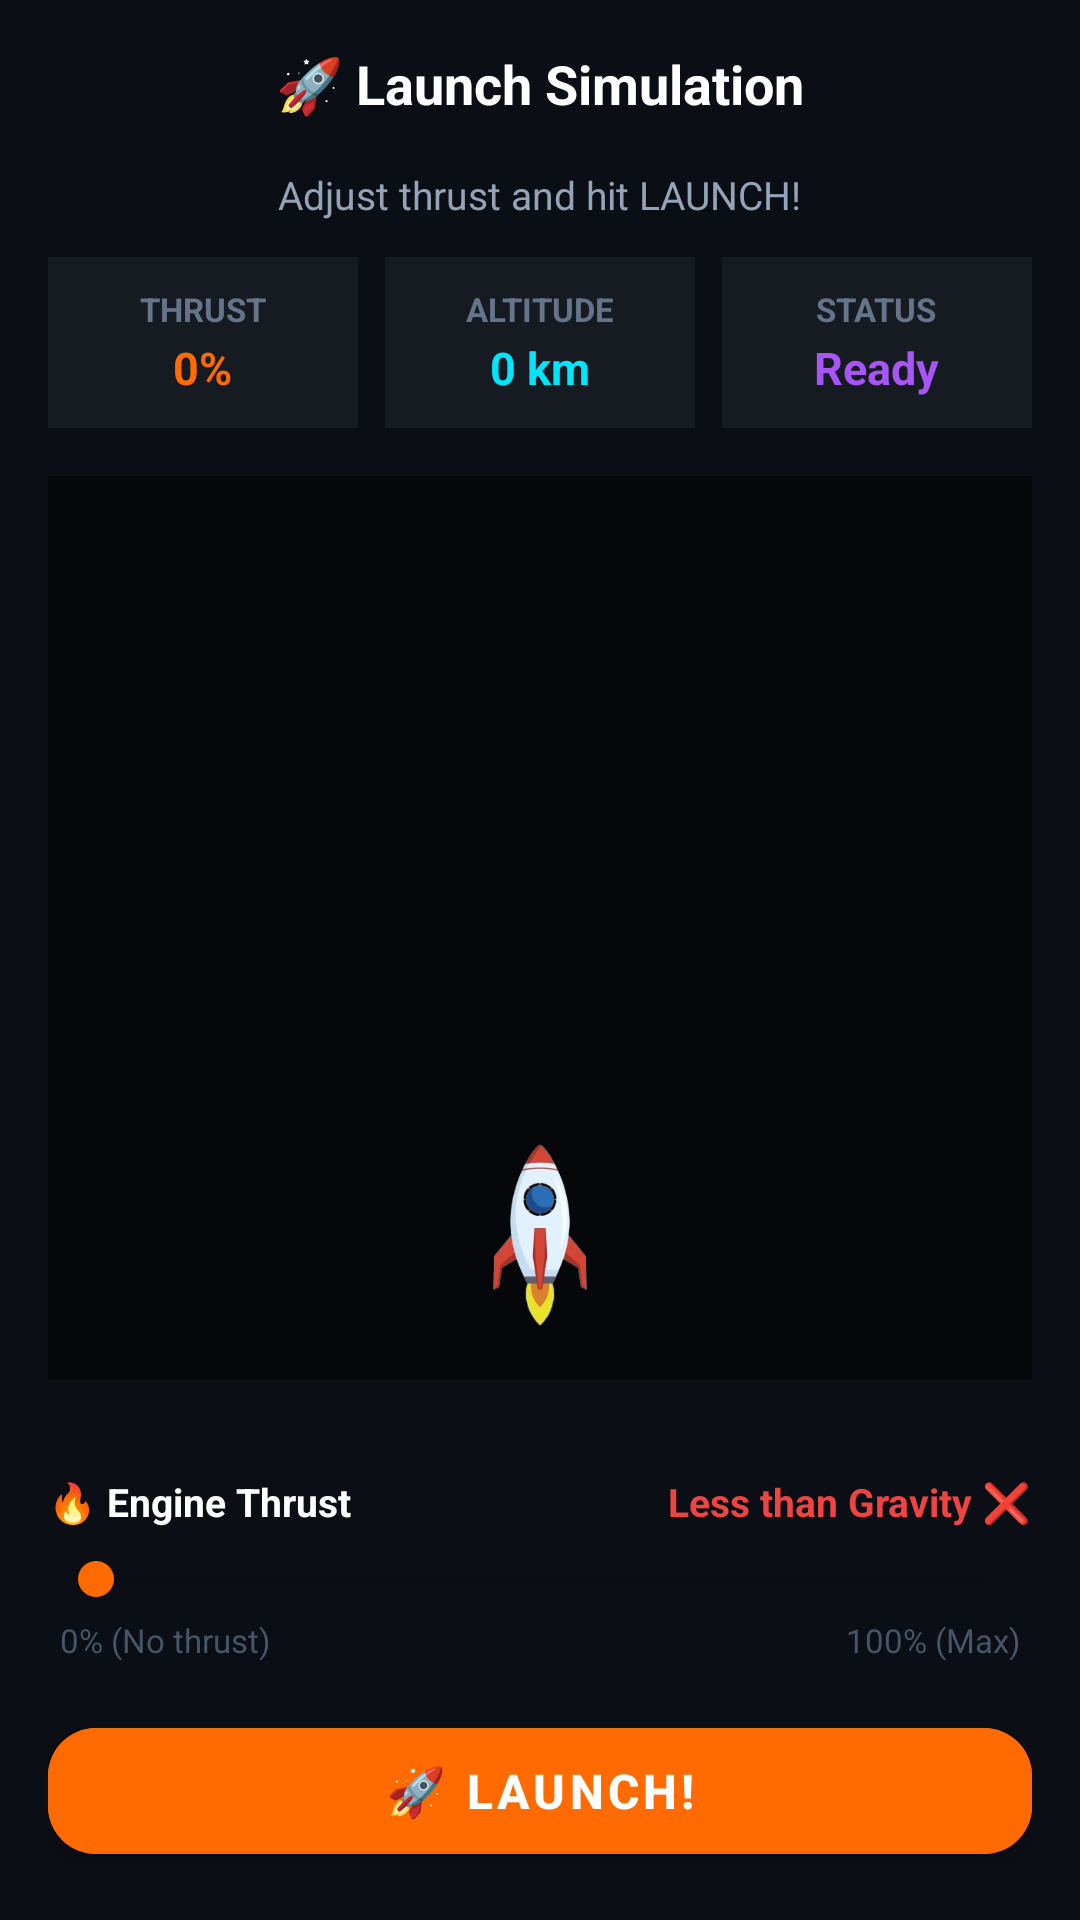

Point at icon controls on the screen. Image size 1080 × 1920, points as point (x, y).
rocket launch: point (540, 1235)
